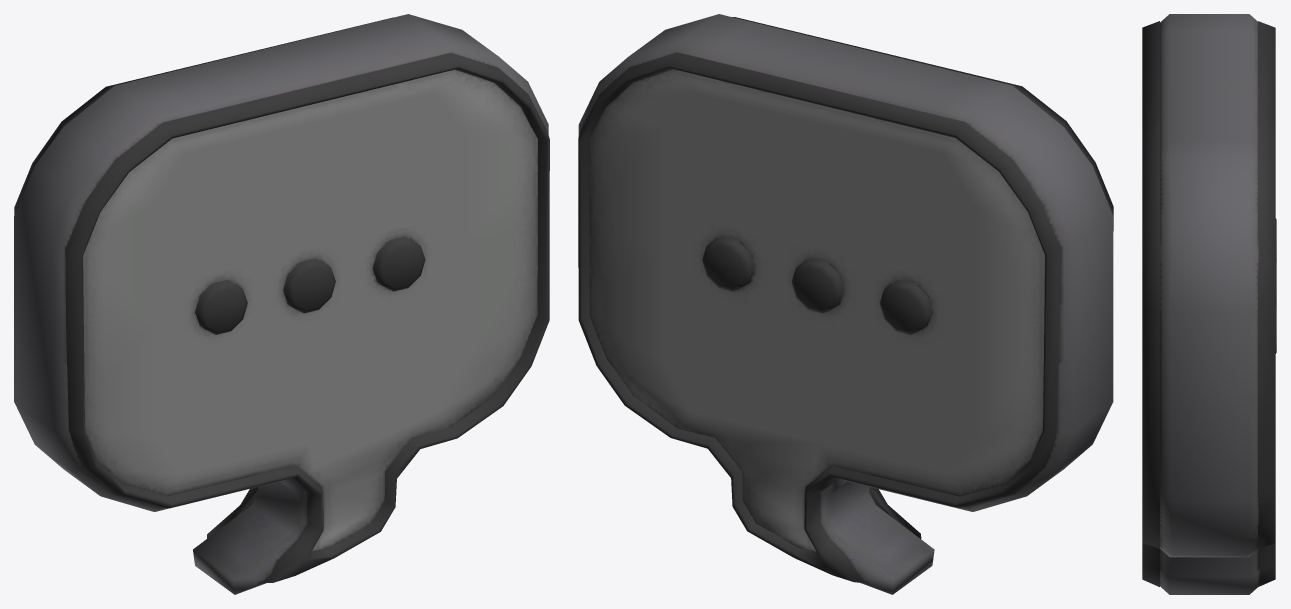
Rendered from tfl-commentary-node-active.glb.
3 views of the same model, side by side, from view 1: azimuth 30°, elevation 25°; view 2: azimuth 150°, elevation 25°; view 3: azimuth 270°, elevation 25° (orthographic).
Visible parts, largest first — view 1: info_speech_Reference; view 2: info_speech_Reference; view 3: info_speech_Reference.
Boxes of the visible parts, x1,y1,x2,y2 form: info_speech_Reference: [14, 14, 549, 594]; info_speech_Reference: [578, 14, 1113, 594]; info_speech_Reference: [1142, 14, 1276, 594].
Size of the model in its own units: 1.84 by 1.78 by 0.4322.
Materials: 1 (1 with a texture image).
